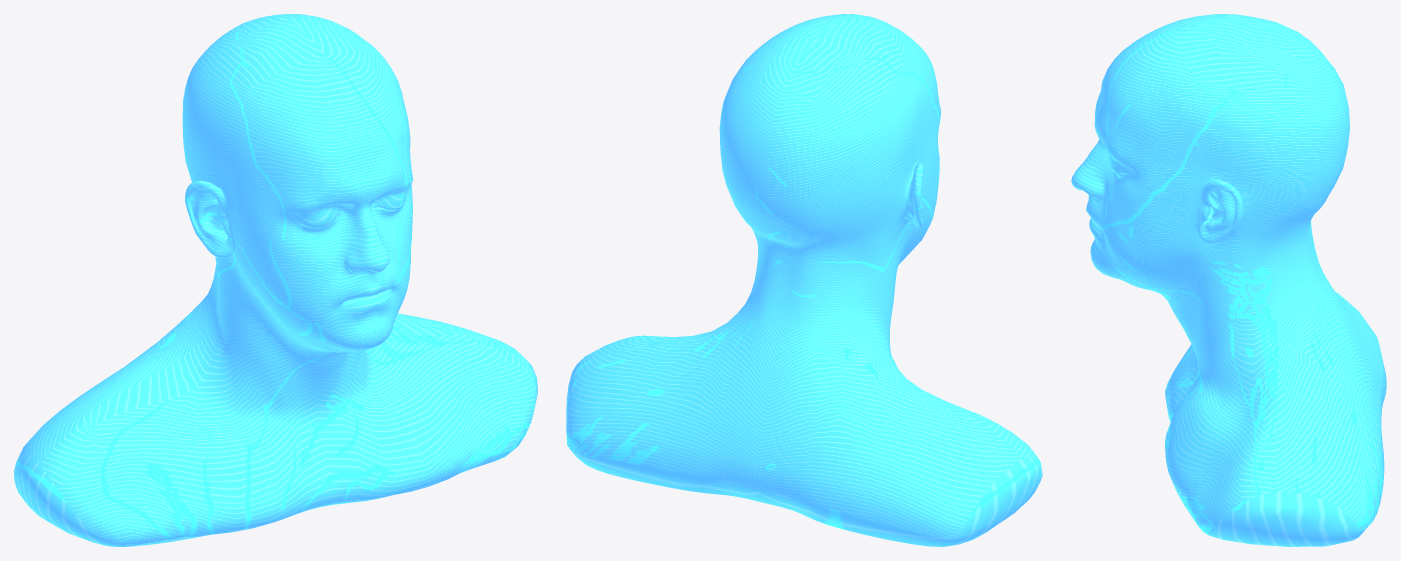
The model's file is holo_1767775805158.glb.
3 renders of one model, left to right at view 1: azimuth 30°, elevation 25°; view 2: azimuth 150°, elevation 25°; view 3: azimuth 270°, elevation 25°, orthographic. The views are drawn at different scales.
Visible parts, largest first — view 1: LeePerrySmith; view 2: LeePerrySmith; view 3: LeePerrySmith.
Part boxes in pixels (box(x1,y1,x2,y2)): LeePerrySmith: box(14, 14, 537, 546); LeePerrySmith: box(566, 14, 1042, 546); LeePerrySmith: box(1071, 14, 1386, 546).
Size of the model in its own units: 8.55 by 7.95 by 5.18.
Materials: 1 (1 with a texture image).
